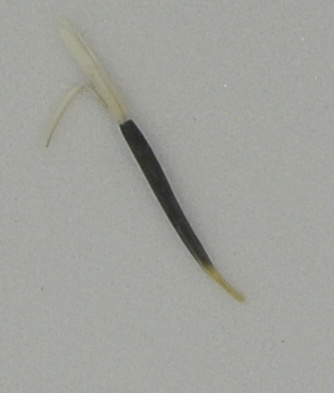เมล็ดดีเรียวยาว: (40, 13, 248, 307)
